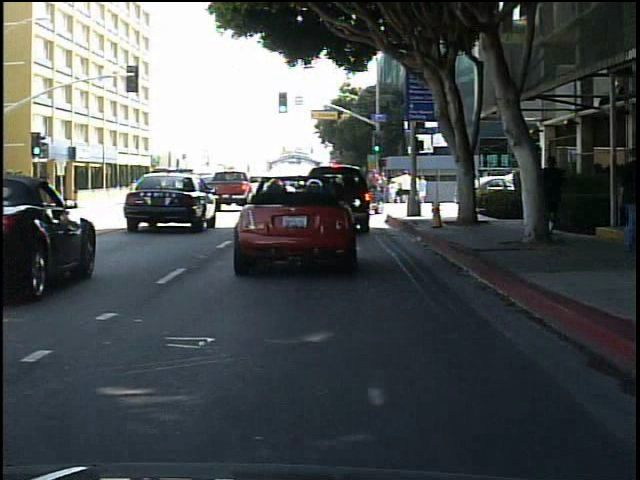person: (544, 147, 570, 237), (126, 175, 144, 203), (630, 141, 632, 260)
